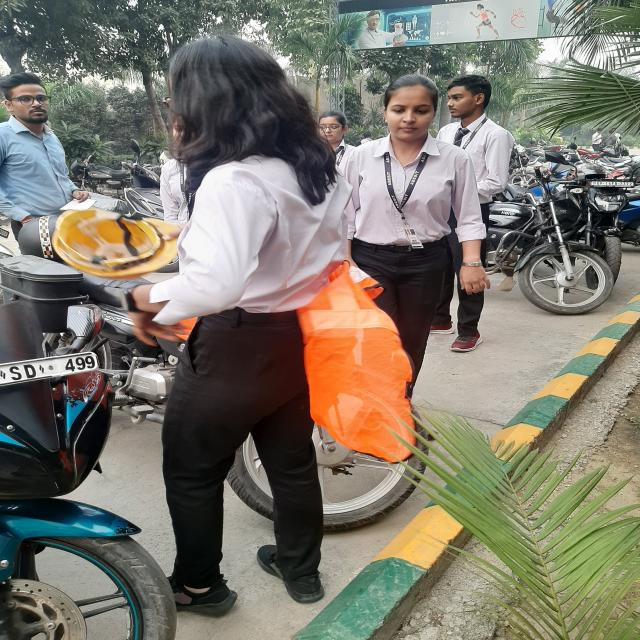unsafe: (146, 36, 359, 614), (342, 69, 485, 411), (438, 70, 519, 352), (0, 72, 101, 262)
